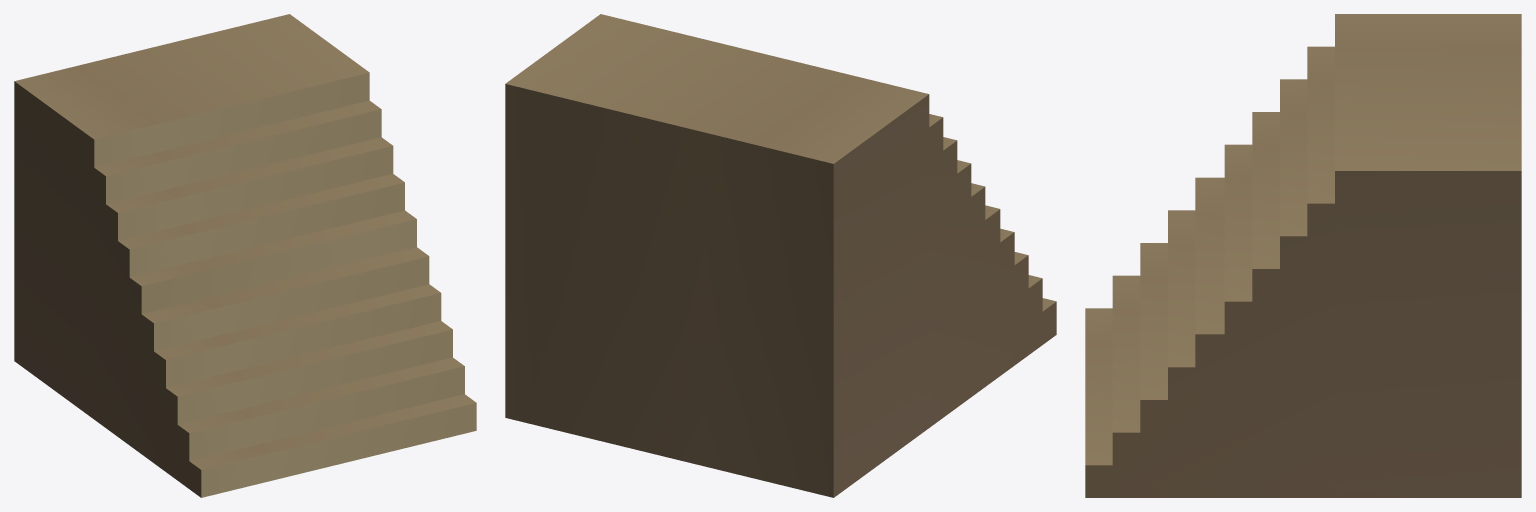
The picture shows the model from 3 angles, left to right: view 1: azimuth 30°, elevation 25°; view 2: azimuth 150°, elevation 25°; view 3: azimuth 270°, elevation 25°; orthographic projection. The views are drawn at different scales.
Parts seen in each view (by area): view 1: stairs_08; view 2: stairs_08; view 3: stairs_08.
Part boxes in pixels (x1,y1,x2,y2): stairs_08: [14, 14, 476, 497]; stairs_08: [505, 14, 1056, 497]; stairs_08: [1085, 14, 1521, 497].
Bounding box in the file's own units: 1.01 × 0.9857 × 1.19.
1 material, 1 textured.
